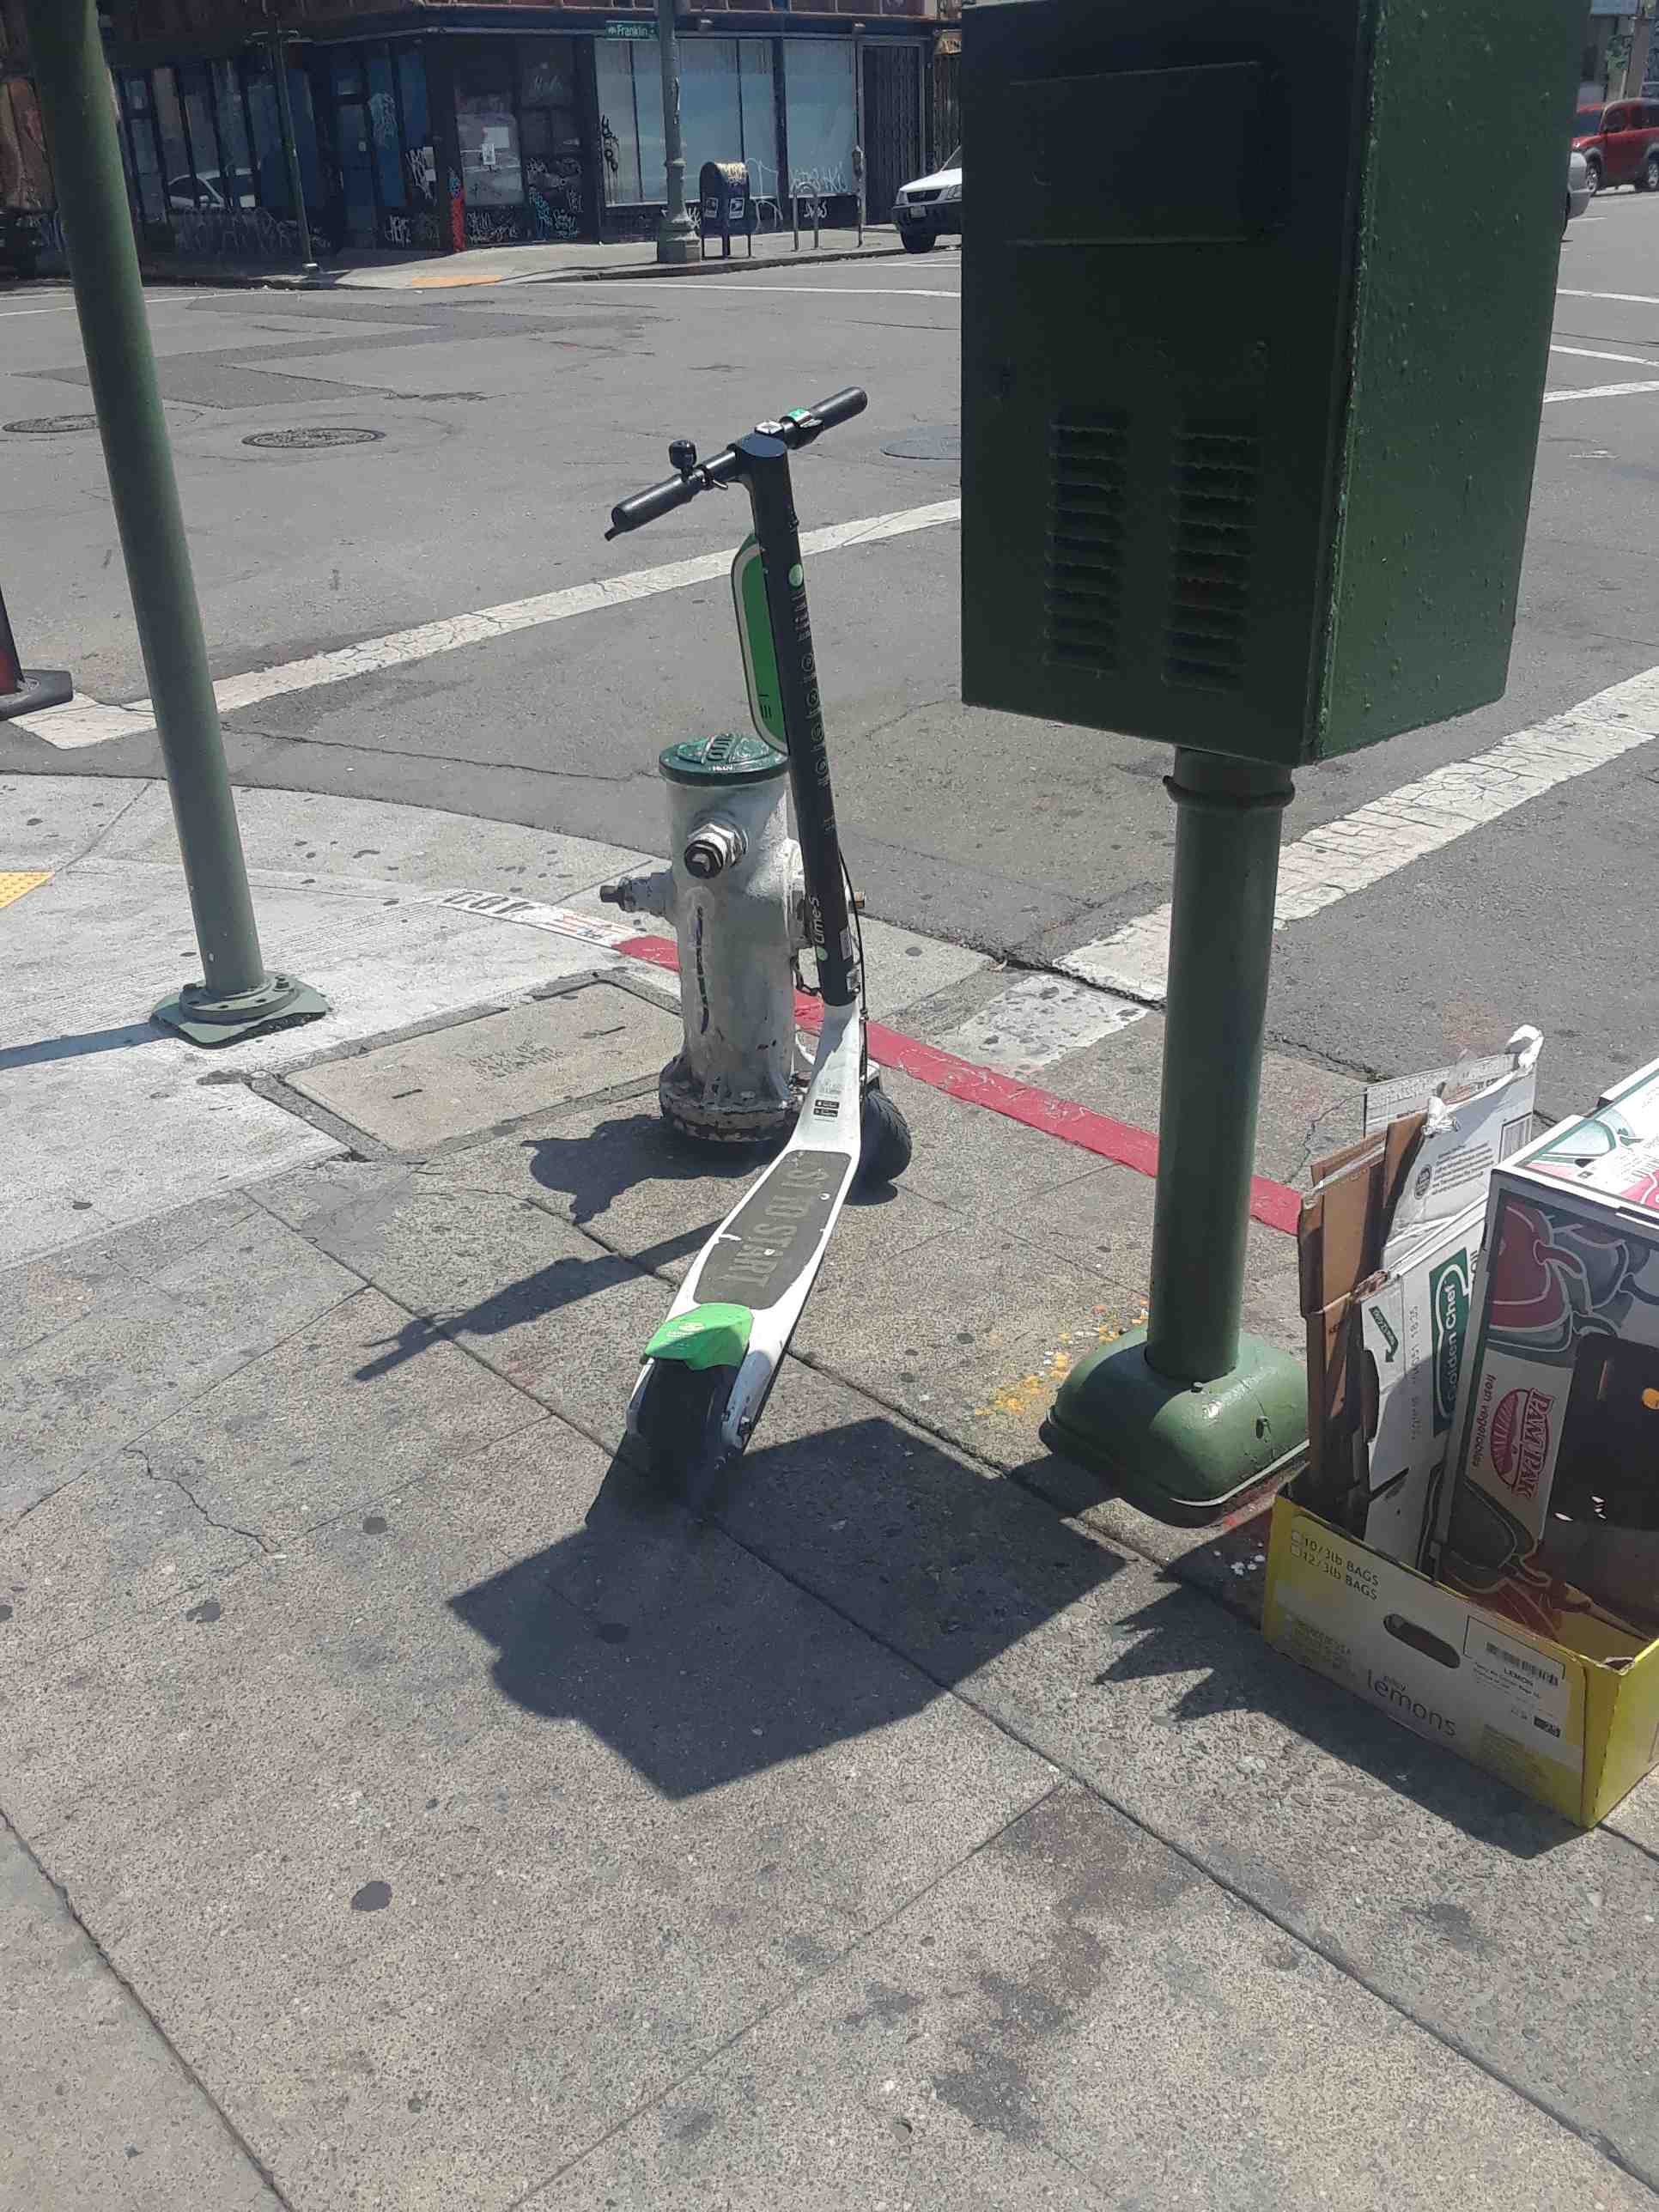scooter: (519, 385, 971, 1514)
